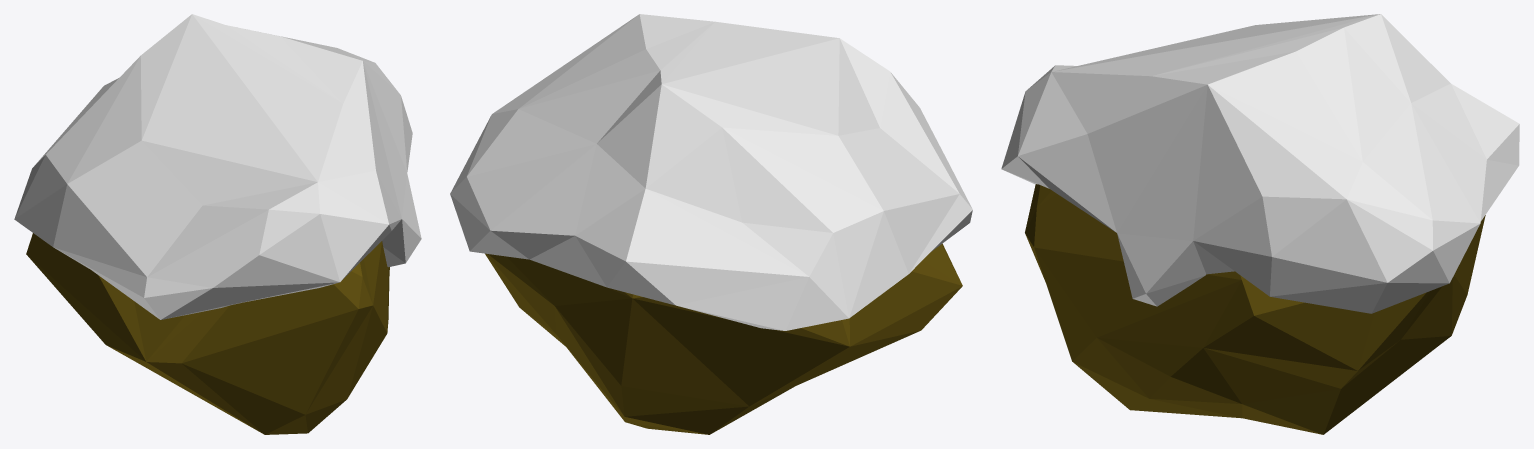
Rendered from Stone_with_Snow.fbx.
3 renders of one model, left to right at view 1: azimuth 30°, elevation 25°; view 2: azimuth 150°, elevation 25°; view 3: azimuth 270°, elevation 25°, orthographic. The views are drawn at different scales.
Parts seen in each view (by area): view 1: Stone with Snow; view 2: Stone with Snow; view 3: Stone with Snow.
Boxes of the visible parts, box(x1,y1,x2,y2) form: Stone with Snow: box(14, 14, 421, 434); Stone with Snow: box(450, 14, 972, 434); Stone with Snow: box(1001, 14, 1519, 434).
Size of the model in its own units: 211 by 188 by 225.
